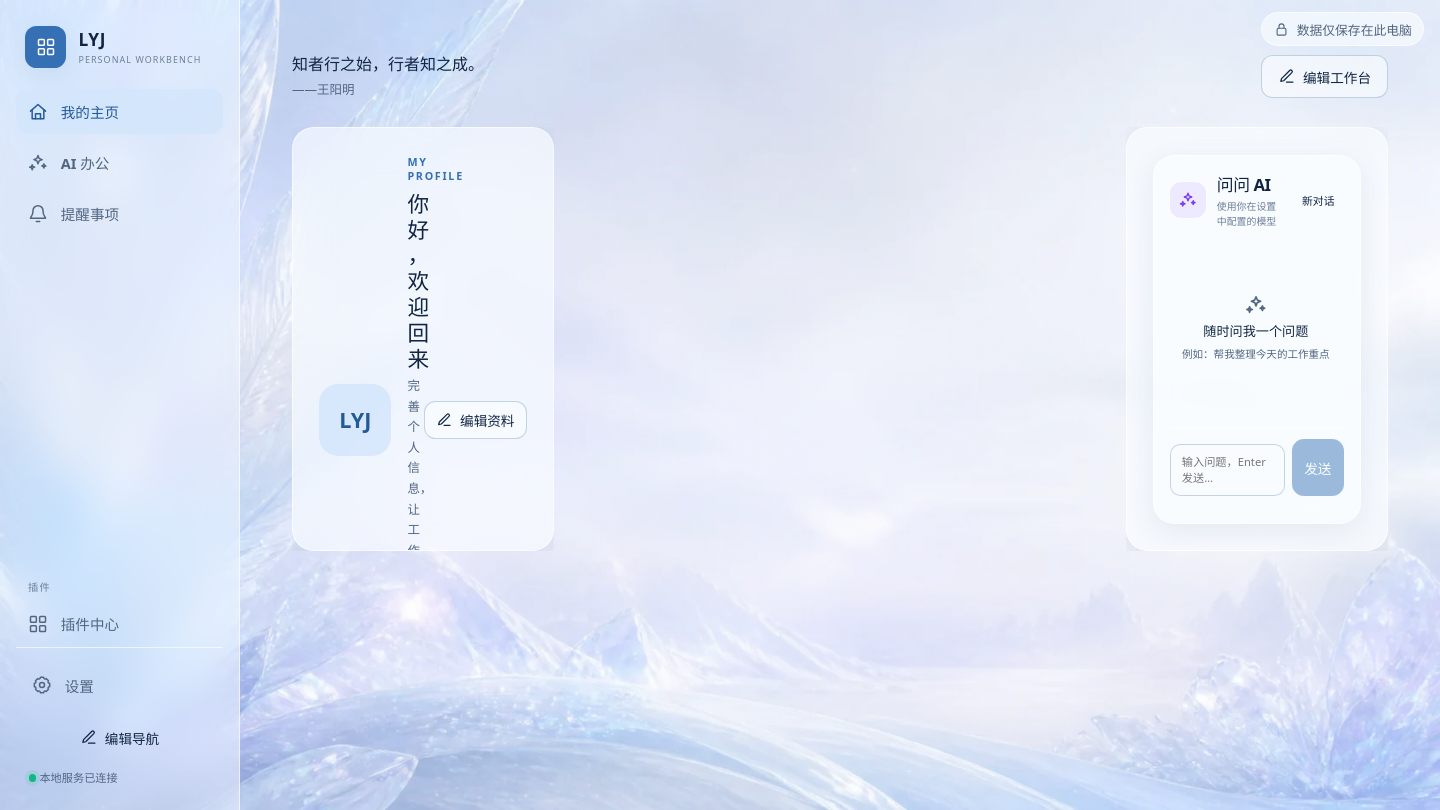
server-declared web contributions › renders enabled dashboard, navigation, route, and AI-tool contributions in stable position order
Check: the element named "大模型对话" is shown, box x1=1153 y1=155 x2=1361 y2=524
Check: the link "提醒事项" is shown, box x1=28 y1=204 x2=119 y2=224
Step 1. Click the link "AI 办公" → click(69, 163), box x1=28 y1=153 x2=109 y2=173
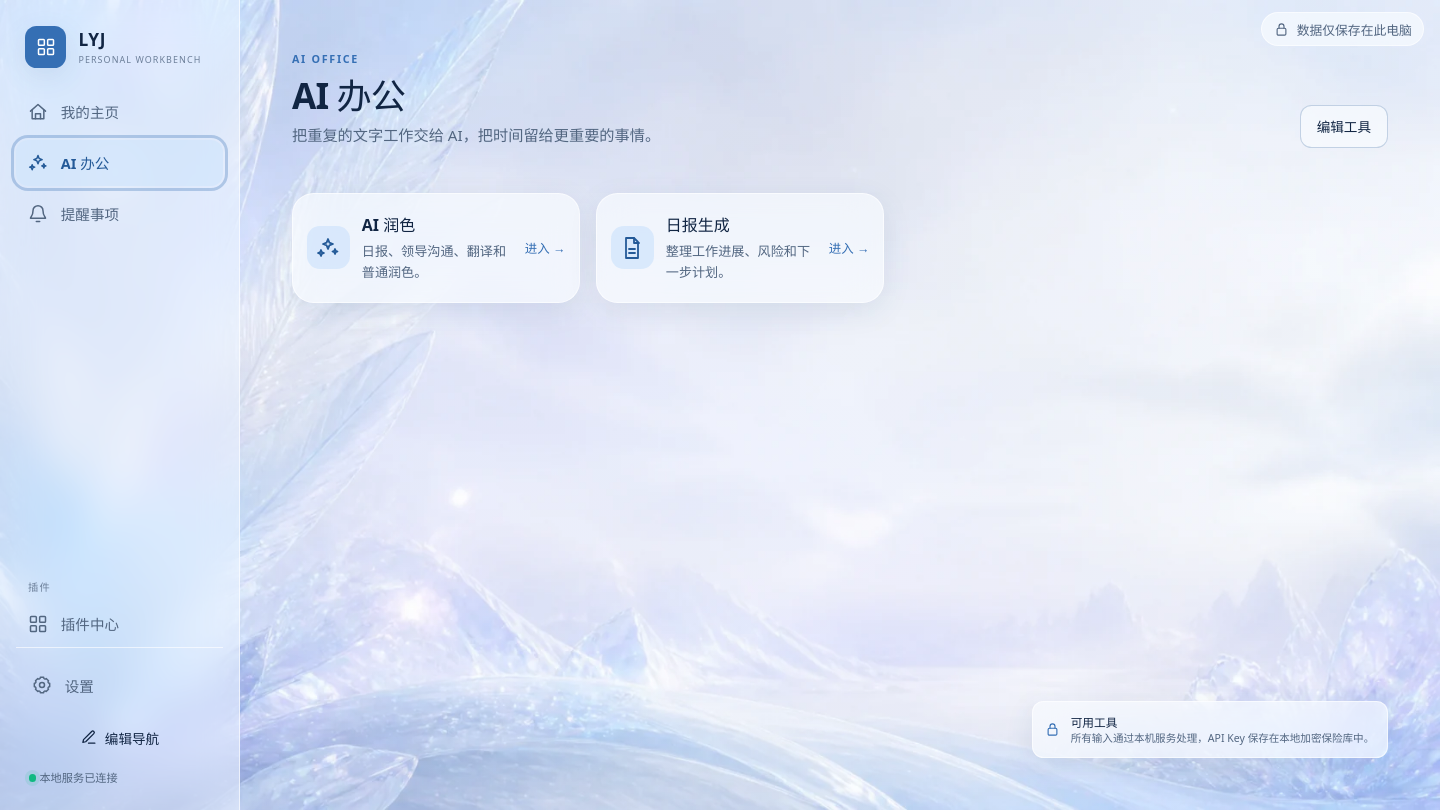
Step 2. Click the link "日报生成 整理工作进展、风险和下一步计划。 进入 →" → click(740, 248), box x1=596 y1=192 x2=884 y2=302
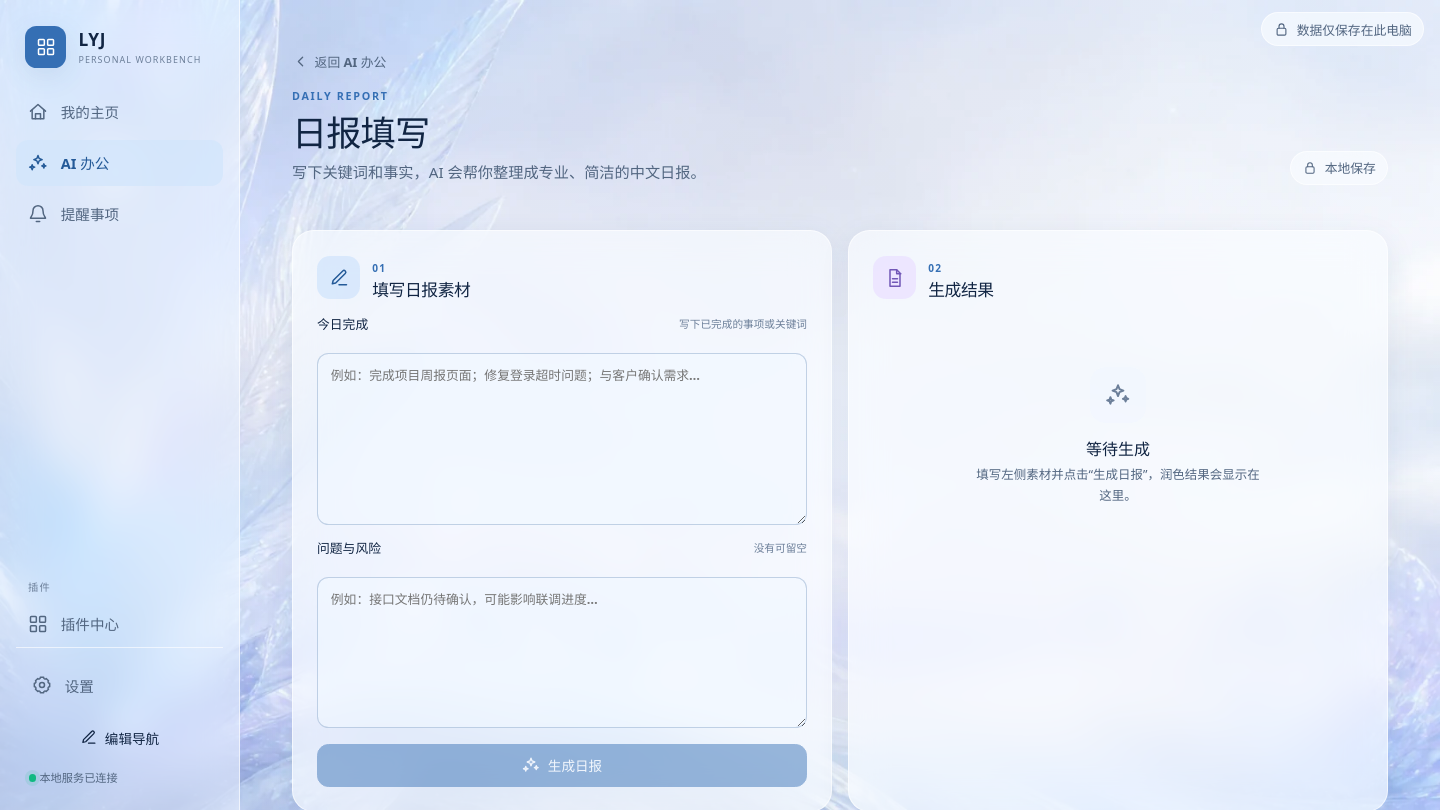
Check: the heading "日报填写" is shown, box x1=292 y1=108 x2=429 y2=156
